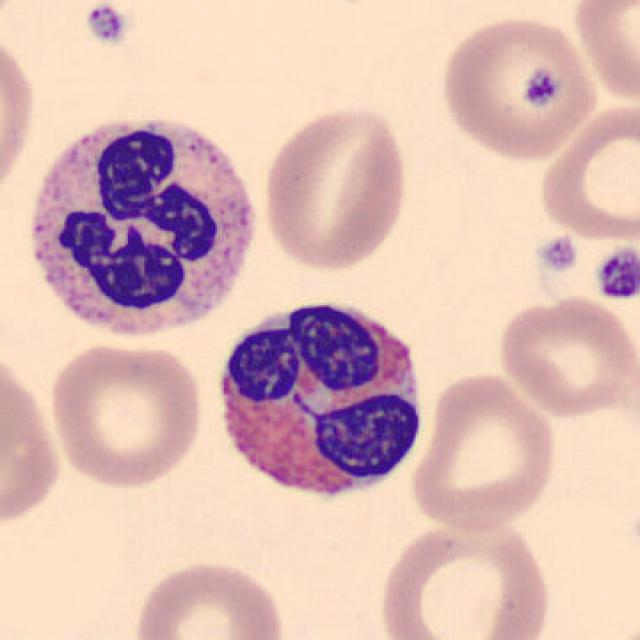Eosinophil: (206, 284, 432, 520)
Neutrophil: (14, 100, 265, 351)
Platelets: (592, 245, 640, 303), (514, 59, 566, 112), (81, 0, 131, 49), (534, 231, 580, 275)
RBC: (258, 101, 412, 275), (436, 11, 602, 164), (407, 369, 560, 534), (45, 338, 206, 492), (374, 513, 556, 640), (494, 292, 636, 420), (535, 99, 638, 247), (128, 555, 290, 640), (0, 342, 66, 534), (569, 0, 640, 109), (0, 25, 39, 206)
